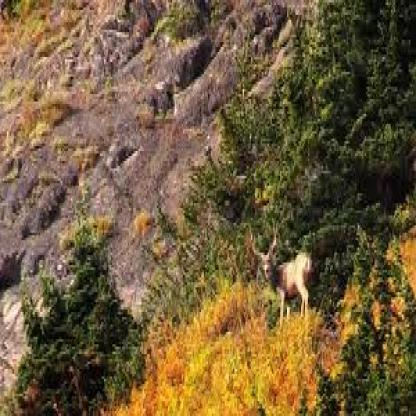Deer: (247, 219, 314, 333)
